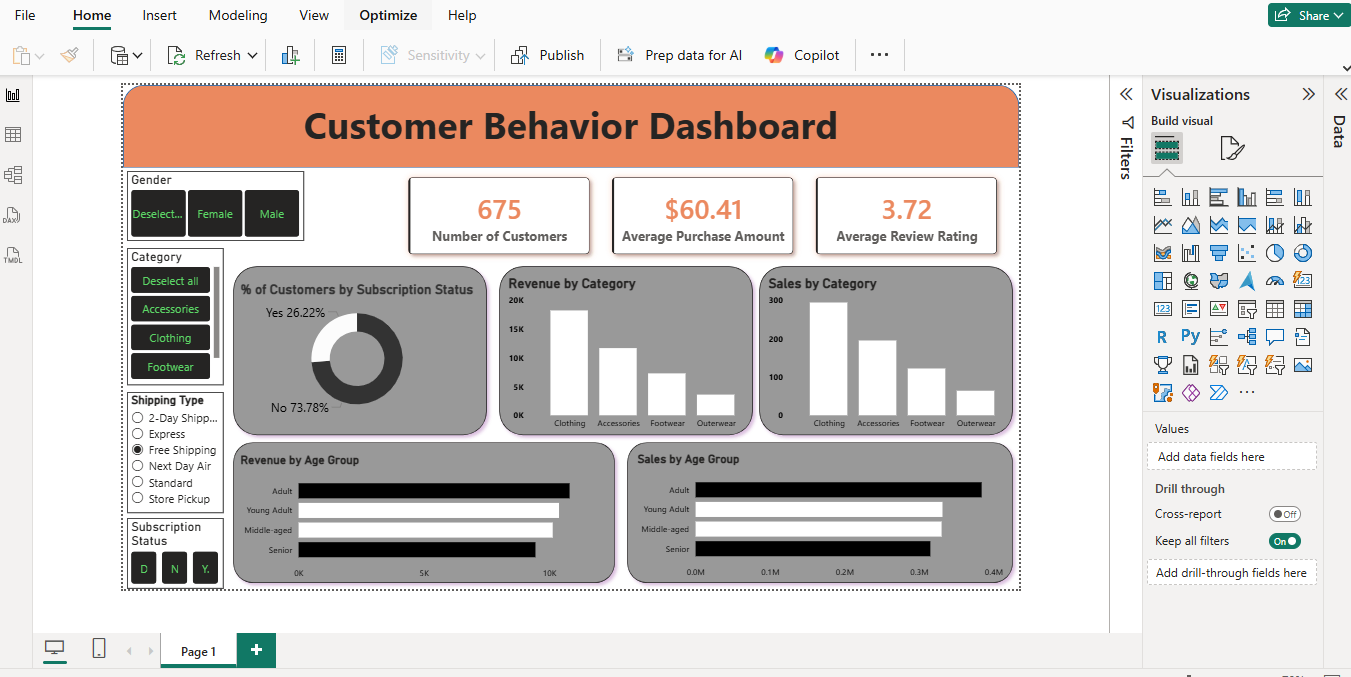

The page's visual inventory and layout, read from the dashboard file:
{"tool":"powerbi","page":{"name":"Page 1","canvas":[1280,720],"ordinal":0},"visuals":[{"type":"cardVisual","fields":{"Data":["retail_shopping_details customer.Number of Customers","retail_shopping_details customer.Average Purchase Amount","retail_shopping_details customer.Average Review Rating"]},"box":[378.7,102.2,901.4,168.5],"z":0},{"type":"shape","box":[0,0,1280.2,118.1],"z":1000},{"type":"textbox","box":[0,14.4,1280.2,103.7],"z":2000},{"type":"shape","box":[148.3,250.6,380.2,259.2],"z":3000},{"type":"donutChart","title":"% of Customers by Subscription Status","fields":{"Category":["retail_shopping_details customer.subscription_status"],"Y":["CountNonNull(retail_shopping_details customer.customer_id)"]},"box":[148.3,279.4,371.5,200.2],"z":4000},{"type":"shape","box":[528.5,250.6,380.2,259.2],"z":5000},{"type":"shape","box":[900,250.6,380.2,259.2],"z":6000},{"type":"clusteredColumnChart","title":"Revenue by Category","fields":{"Y":["Sum(retail_shopping_details customer.purchase_amount)"],"Category":["retail_shopping_details customer.category"]},"box":[545.8,270.7,362.9,230.4],"z":7000},{"type":"clusteredColumnChart","title":"Sales by Category","fields":{"Y":["CountNonNull(retail_shopping_details customer.customer_id)"],"Category":["retail_shopping_details customer.category"]},"box":[917.3,270.7,362.9,230.4],"z":8000},{"type":"advancedSlicerVisual","title":"Subscription Status","fields":{"Values":["retail_shopping_details customer.subscription_status"]},"box":[5.8,619.2,138.2,100.8],"z":9000},{"type":"advancedSlicerVisual","title":"Gender","fields":{"Values":["retail_shopping_details customer.gender"]},"box":[5.8,122.4,138.2,100.8],"z":10000},{"type":"advancedSlicerVisual","title":"Category","fields":{"Values":["retail_shopping_details customer.category"]},"box":[5.8,233.3,138.2,195.8],"z":11000},{"type":"listSlicer","title":"Shipping Type","fields":{"Values":["retail_shopping_details customer.shipping_type"]},"box":[5.8,439.2,138.2,172.8],"z":11001},{"type":"shape","box":[148.3,501.1,563,218.9],"z":11002},{"type":"clusteredBarChart","title":"Revenue by Age Group","fields":{"Y":["Sum(retail_shopping_details customer.purchase_amount)"],"Category":["retail_shopping_details customer.age_group"]},"box":[162.7,525.6,532.8,190.1],"z":11003},{"type":"shape","box":[711.4,501.1,568.8,218.9],"z":11004},{"type":"clusteredBarChart","title":"Sales by Age Group","fields":{"Y":["Sum(retail_shopping_details customer.customer_id)"],"Category":["retail_shopping_details customer.age_group"]},"box":[730.1,524.2,532.8,190.1],"z":11005}]}

Visuals, with their boxes on the page's 1280x720 design canvas (x1, y1, x2, y2). These are canvas units, not pixel positions in the 1351x677 screenshot, which may show the page scaled, cropped or inside an application window:
cardVisual - retail_shopping_details customer.Number of Customers x retail_shopping_details customer.Average Purchase Amount: locate(379, 102, 1280, 271)
shape: locate(0, 0, 1280, 118)
textbox: locate(0, 14, 1280, 118)
shape: locate(148, 251, 528, 510)
"% of Customers by Subscription Status" donutChart: locate(148, 279, 520, 480)
shape: locate(528, 251, 909, 510)
shape: locate(900, 251, 1280, 510)
"Revenue by Category" clusteredColumnChart: locate(546, 271, 909, 501)
"Sales by Category" clusteredColumnChart: locate(917, 271, 1280, 501)
"Subscription Status" advancedSlicerVisual: locate(6, 619, 144, 720)
"Gender" advancedSlicerVisual: locate(6, 122, 144, 223)
"Category" advancedSlicerVisual: locate(6, 233, 144, 429)
"Shipping Type" listSlicer: locate(6, 439, 144, 612)
shape: locate(148, 501, 711, 720)
"Revenue by Age Group" clusteredBarChart: locate(163, 526, 696, 716)
shape: locate(711, 501, 1280, 720)
"Sales by Age Group" clusteredBarChart: locate(730, 524, 1263, 714)
